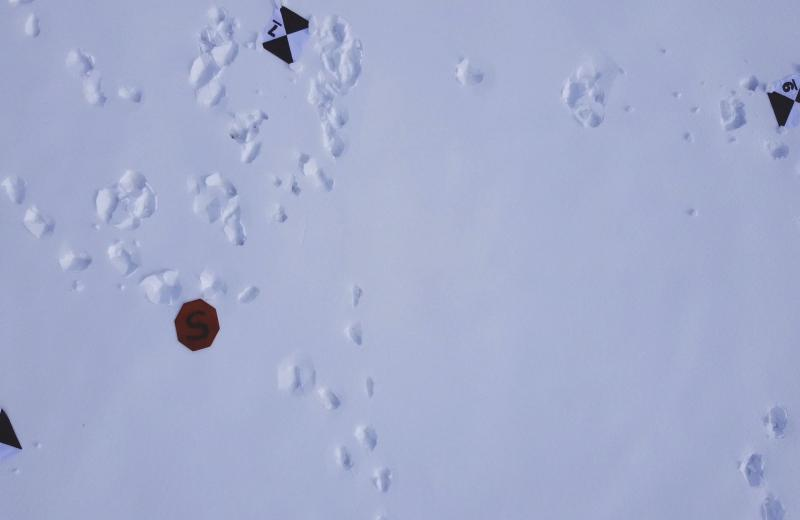Octagon: (174, 298, 221, 352)
